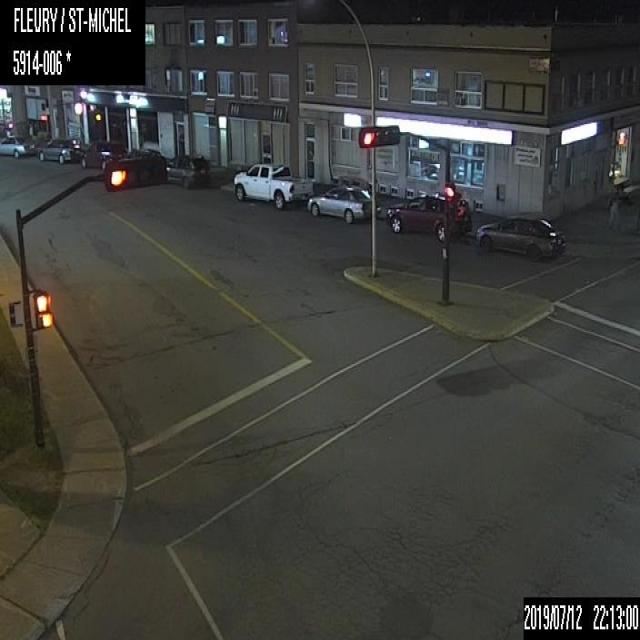pedestrian: (606, 187, 620, 231)
vehicle: (385, 191, 472, 243), (476, 211, 564, 258), (233, 161, 316, 210), (306, 182, 372, 223), (165, 152, 210, 187), (80, 136, 127, 168), (36, 133, 80, 163), (0, 132, 35, 156)
